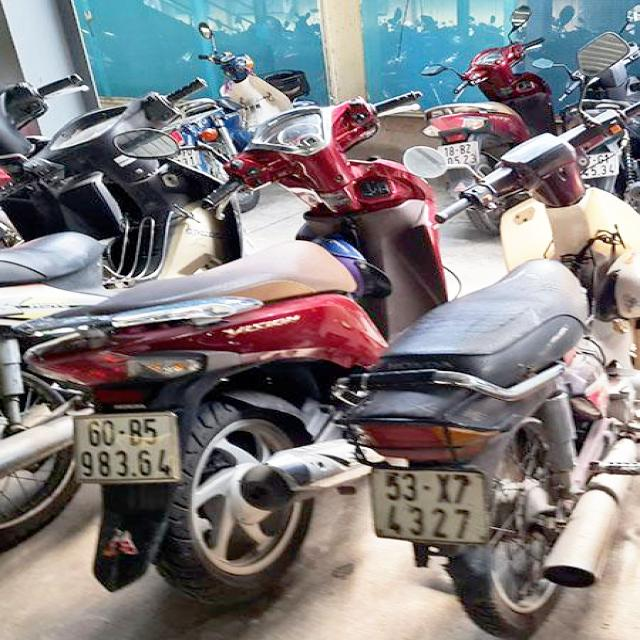license_plate: (369, 470, 489, 544), (76, 414, 184, 483)
